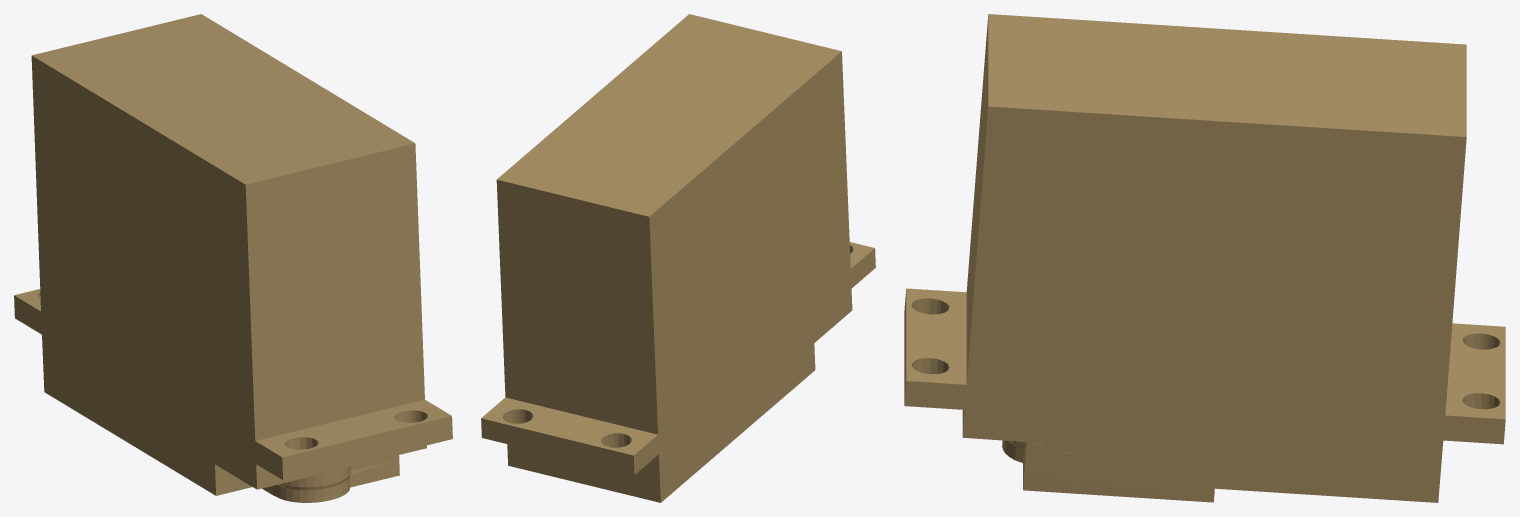
Rendered from right_shoulder_y_link_visual_1.obj.balanced.glb.
The picture shows the model from 3 angles, left to right: view 1: azimuth 30°, elevation 25°; view 2: azimuth 150°, elevation 25°; view 3: azimuth 270°, elevation 25°; orthographic projection. The views are drawn at different scales.
Bounding box in the file's own units: 0.2829 × 0.5644 × 0.7761.
